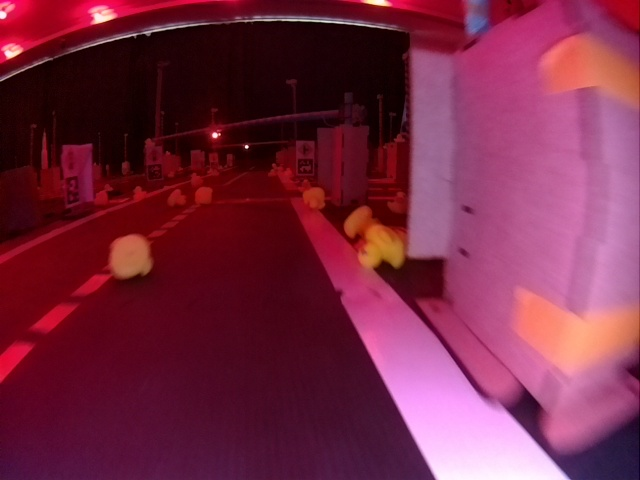Duckie: (357, 224, 404, 269), (109, 233, 152, 279), (344, 206, 378, 235), (302, 187, 326, 211), (194, 187, 214, 206), (166, 189, 187, 207)
